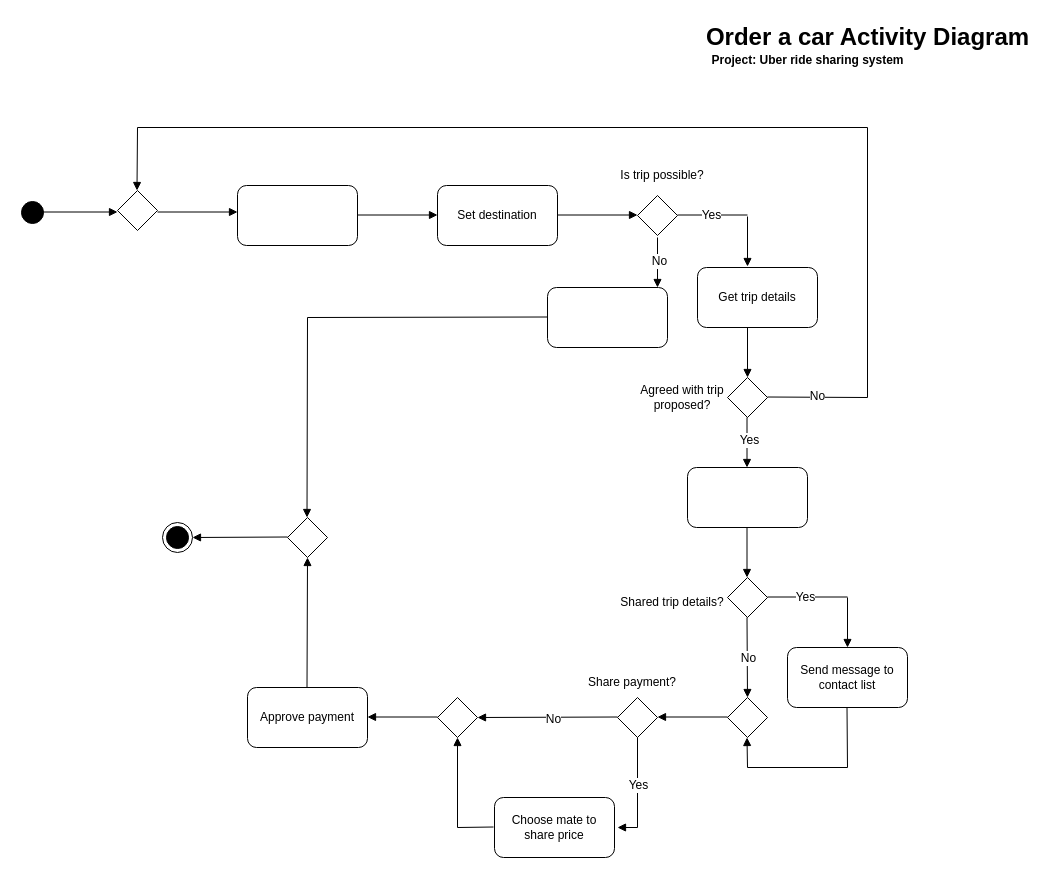
The diagram is 1046 pixels wide and 875 high, and some of its shapes have lost their labels. The centre of each missing label's shape, as x and y in pixels:
"Error: Price couldn't be calculated" belongs at pixel 607 317.
"Set departure" belongs at pixel 297 215.
"Take car" belongs at pixel 747 497.
